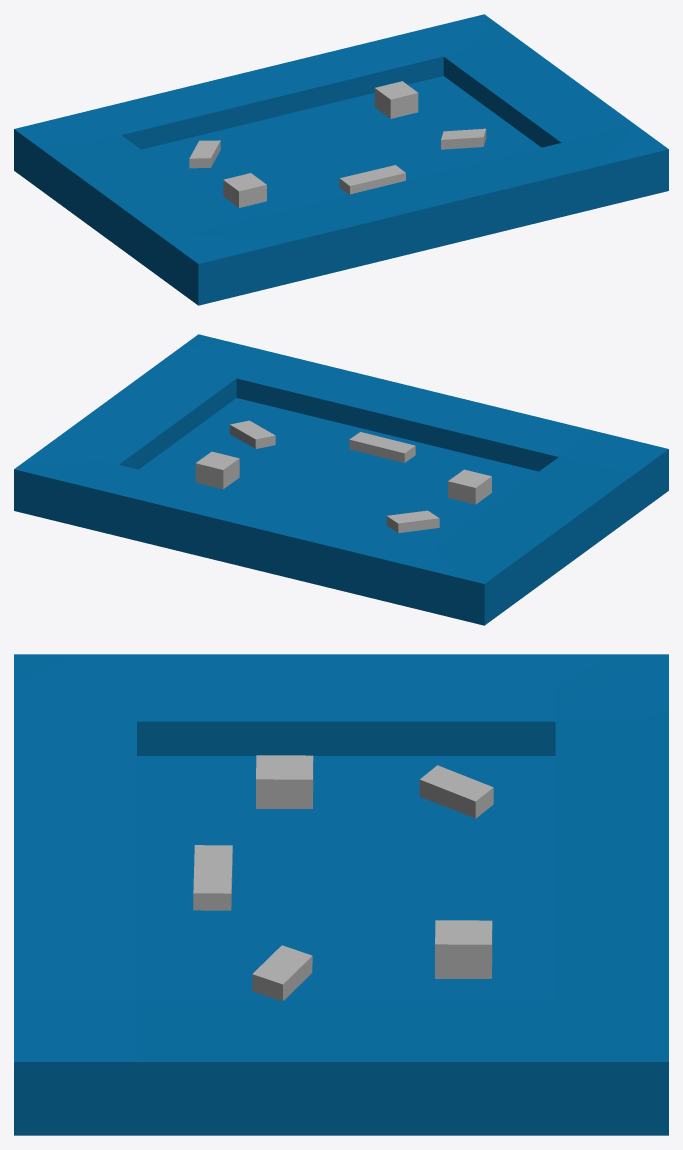
File: TestGround (1).fbx
The picture shows the model from 3 angles, top to bottom: view 1: azimuth 30°, elevation 25°; view 2: azimuth 150°, elevation 25°; view 3: azimuth 270°, elevation 25°; orthographic projection. The views are drawn at different scales.
Parts seen in each view (by area): view 1: TestGround__1_, Cube__1_, Cube__4_, Cube__2_, Cube, Cube__3_; view 2: TestGround__1_, Cube__1_, Cube__2_, Cube__4_, Cube__3_, Cube; view 3: TestGround__1_, Cube__1_, Cube__4_, Cube__2_, Cube__3_, Cube.
Boxes of the visible parts, x1,y1,x2,y2 form: TestGround__1_: [14, 14, 668, 305]; Cube__1_: [374, 81, 418, 118]; Cube__4_: [223, 173, 266, 207]; Cube__2_: [339, 165, 405, 194]; Cube: [441, 128, 486, 149]; Cube__3_: [189, 140, 220, 168]; TestGround__1_: [14, 334, 668, 625]; Cube__1_: [195, 451, 239, 489]; Cube__2_: [349, 432, 415, 462]; Cube__4_: [448, 469, 491, 504]; Cube__3_: [386, 510, 439, 532]; Cube: [229, 420, 275, 448]; TestGround__1_: [14, 654, 668, 1135]; Cube__1_: [435, 920, 492, 978]; Cube__4_: [256, 755, 313, 808]; Cube__2_: [193, 845, 232, 910]; Cube__3_: [419, 765, 493, 818]; Cube: [252, 945, 312, 1000].
Size of the model in its own units: 5080 by 709 by 3450.
